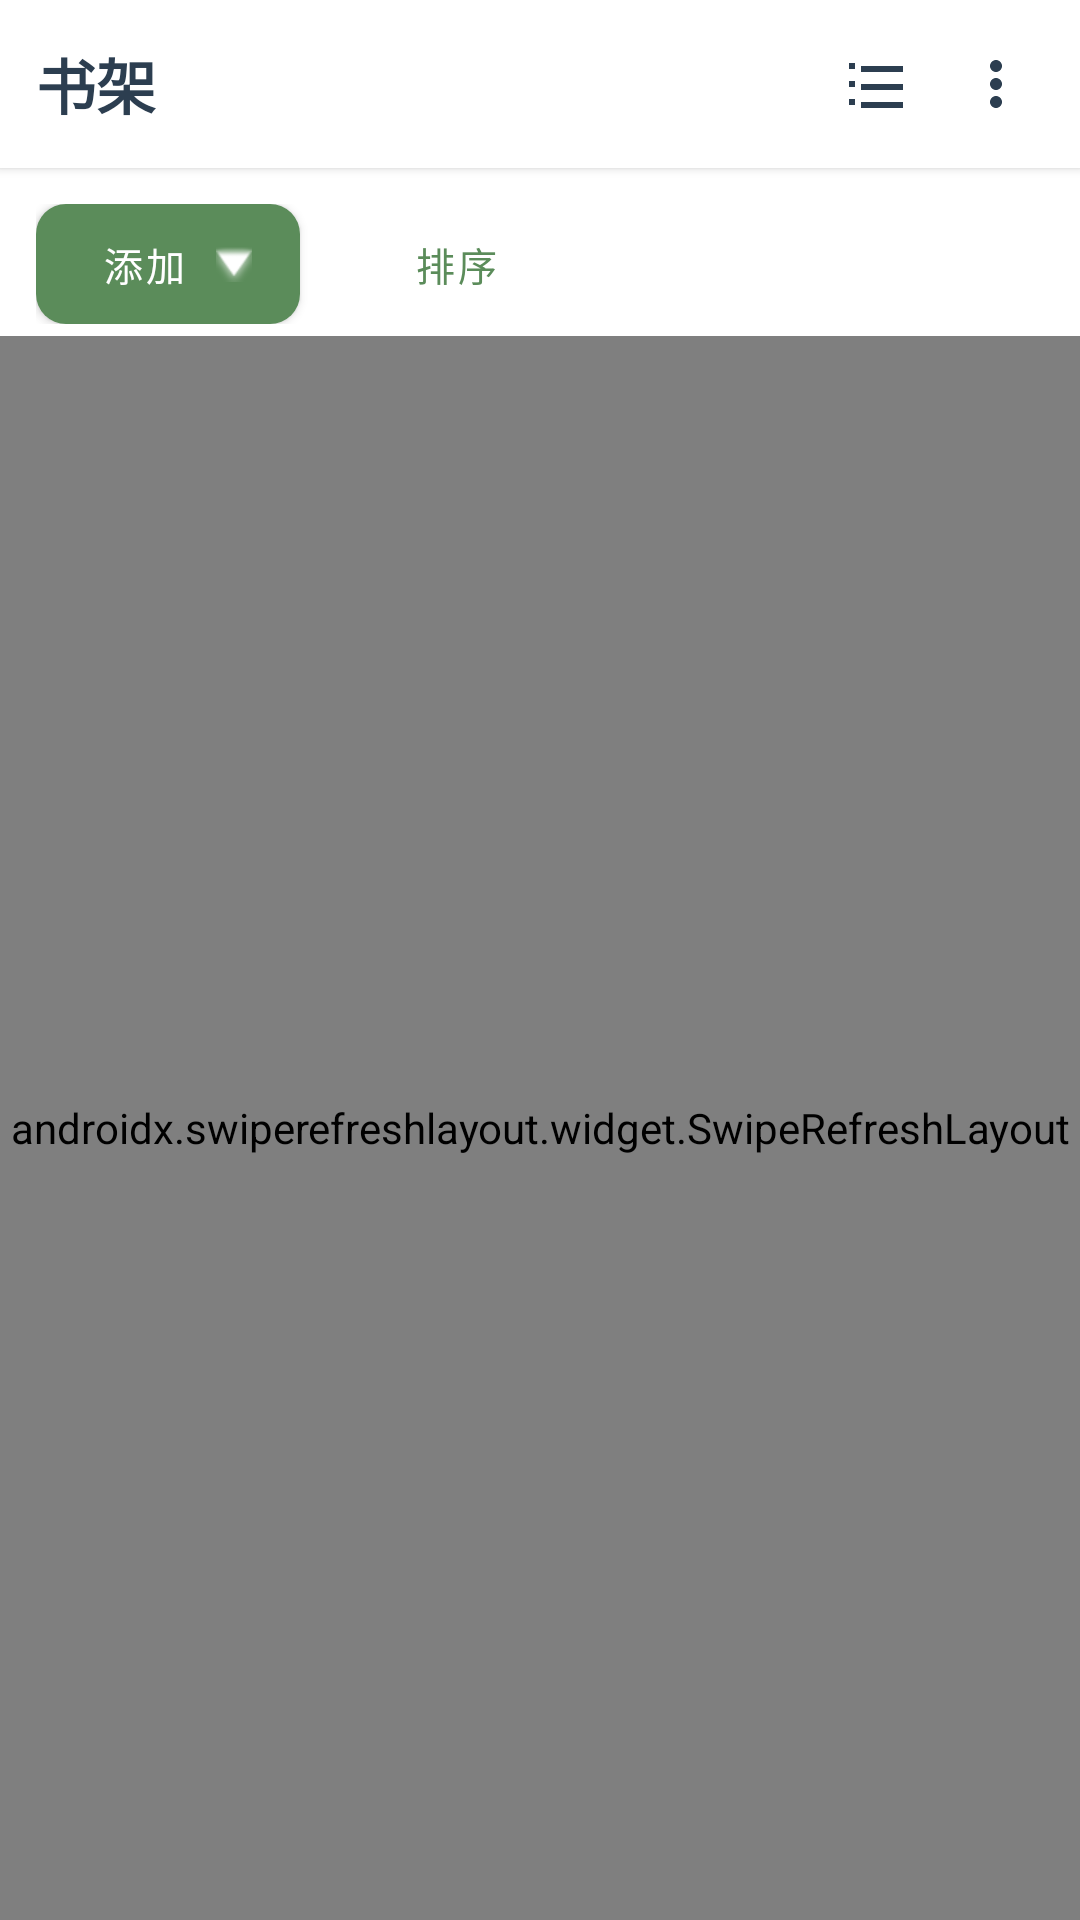

Locate icon controls on the screen. Image size 1080×1920, boxes as [x1,y1,x2,y2].
多选: [849,63,903,108]
更多: [990,60,1002,108]
